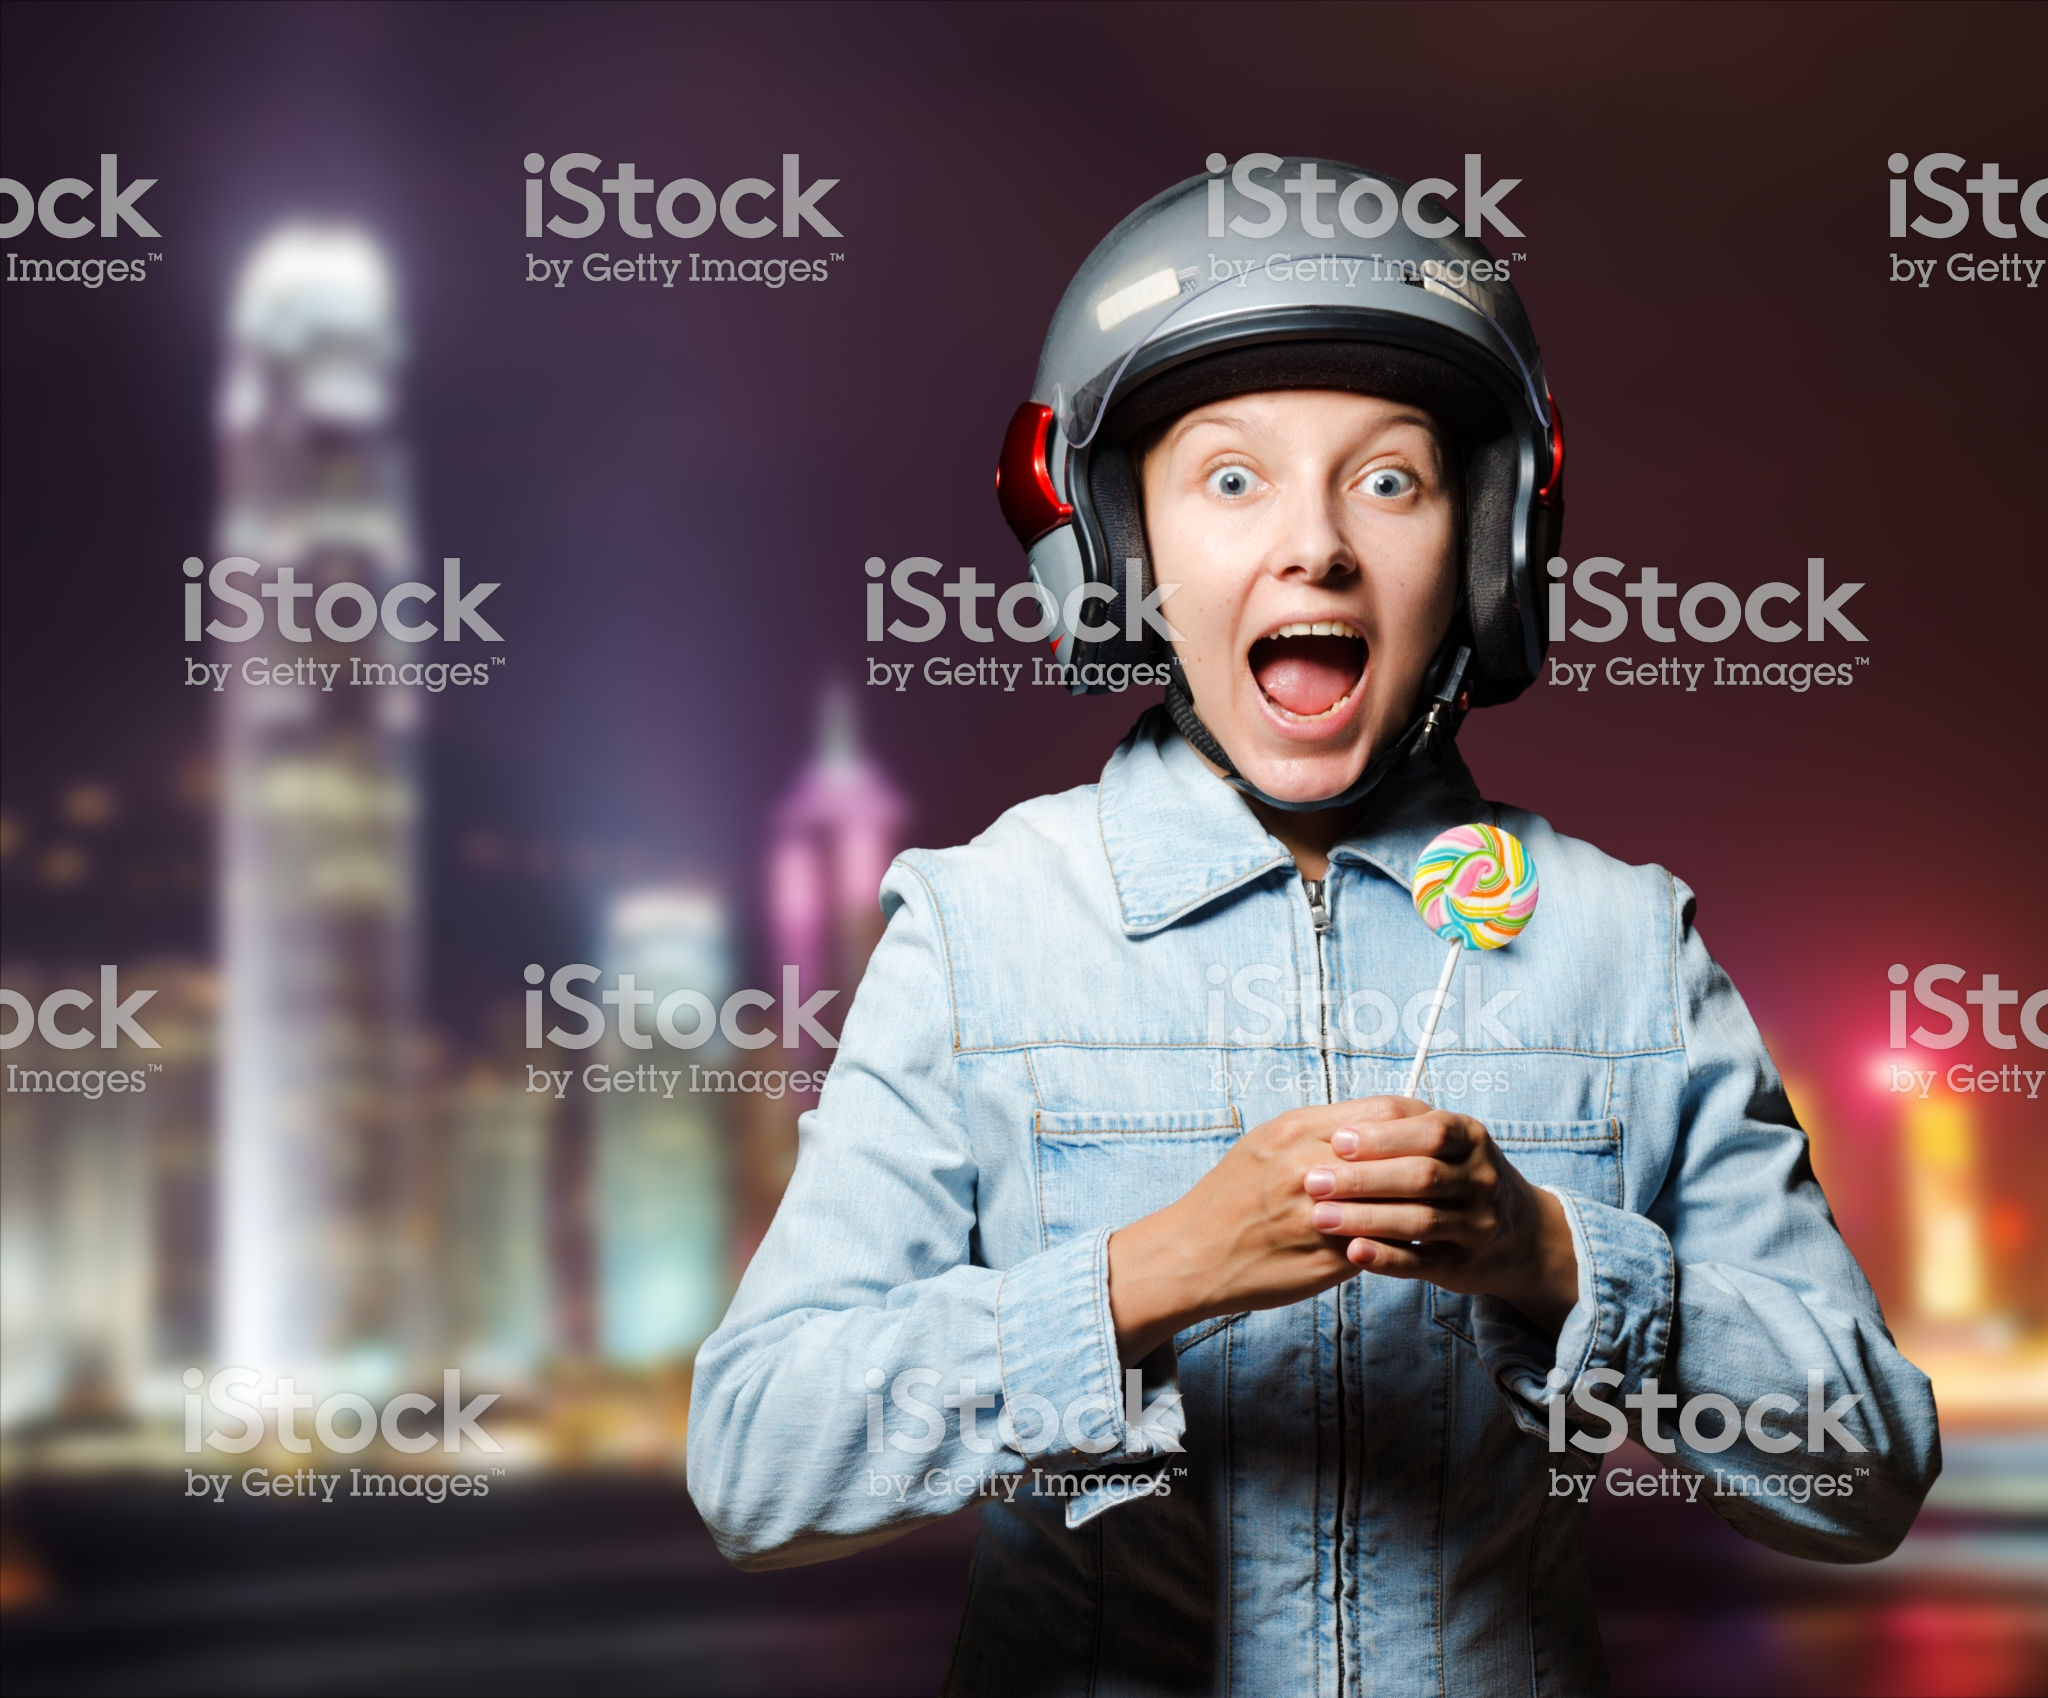helmet: (963, 151, 1650, 626)
